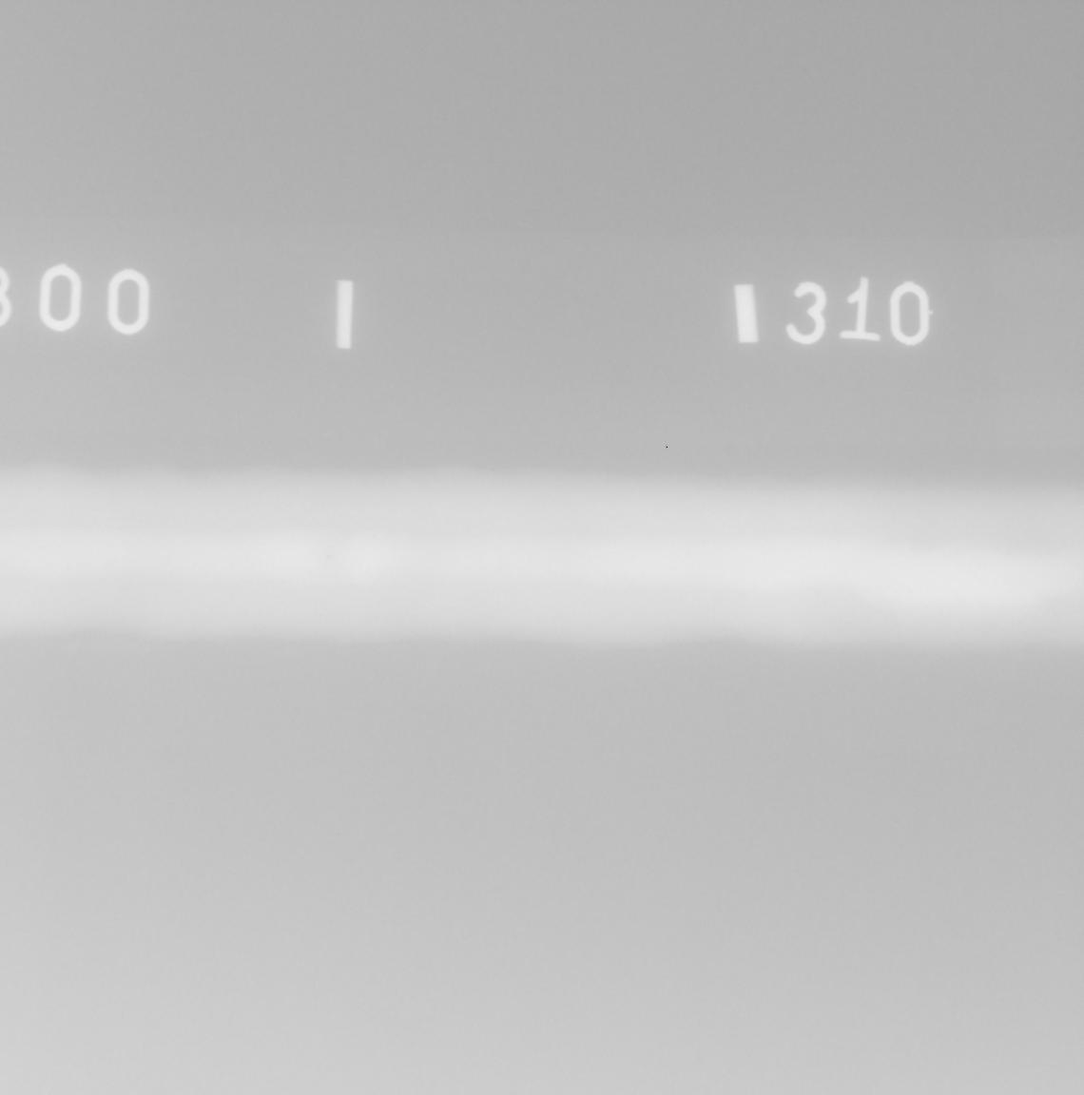Pore/Porosity: (326, 555, 331, 557)
